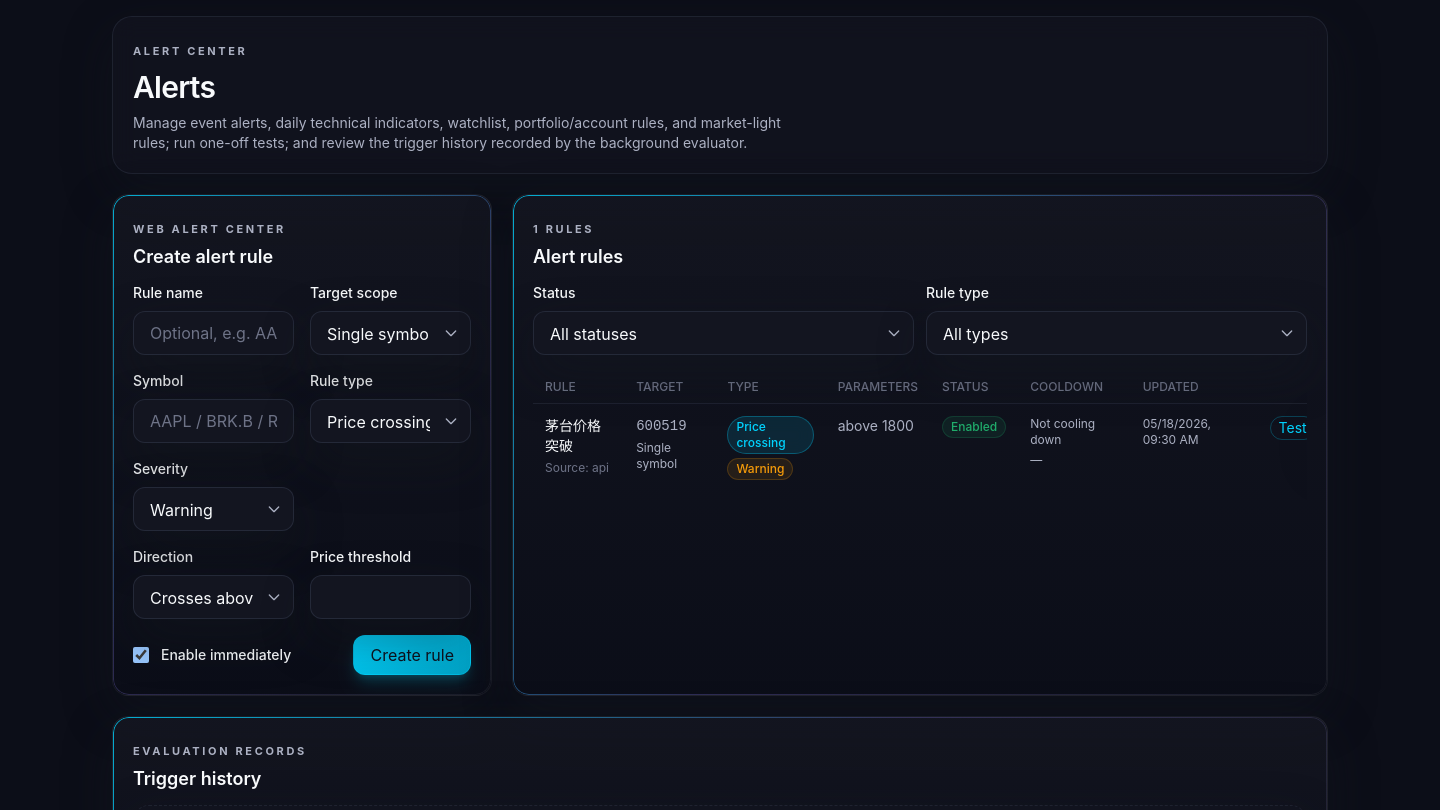
Test: AlertsPage › renders batch dry-run summary and target results
What coordinates should you click on to do the following:
click the button "Test"
I would click on:
 (1293, 428)
Its box is [1270, 416, 1316, 440].
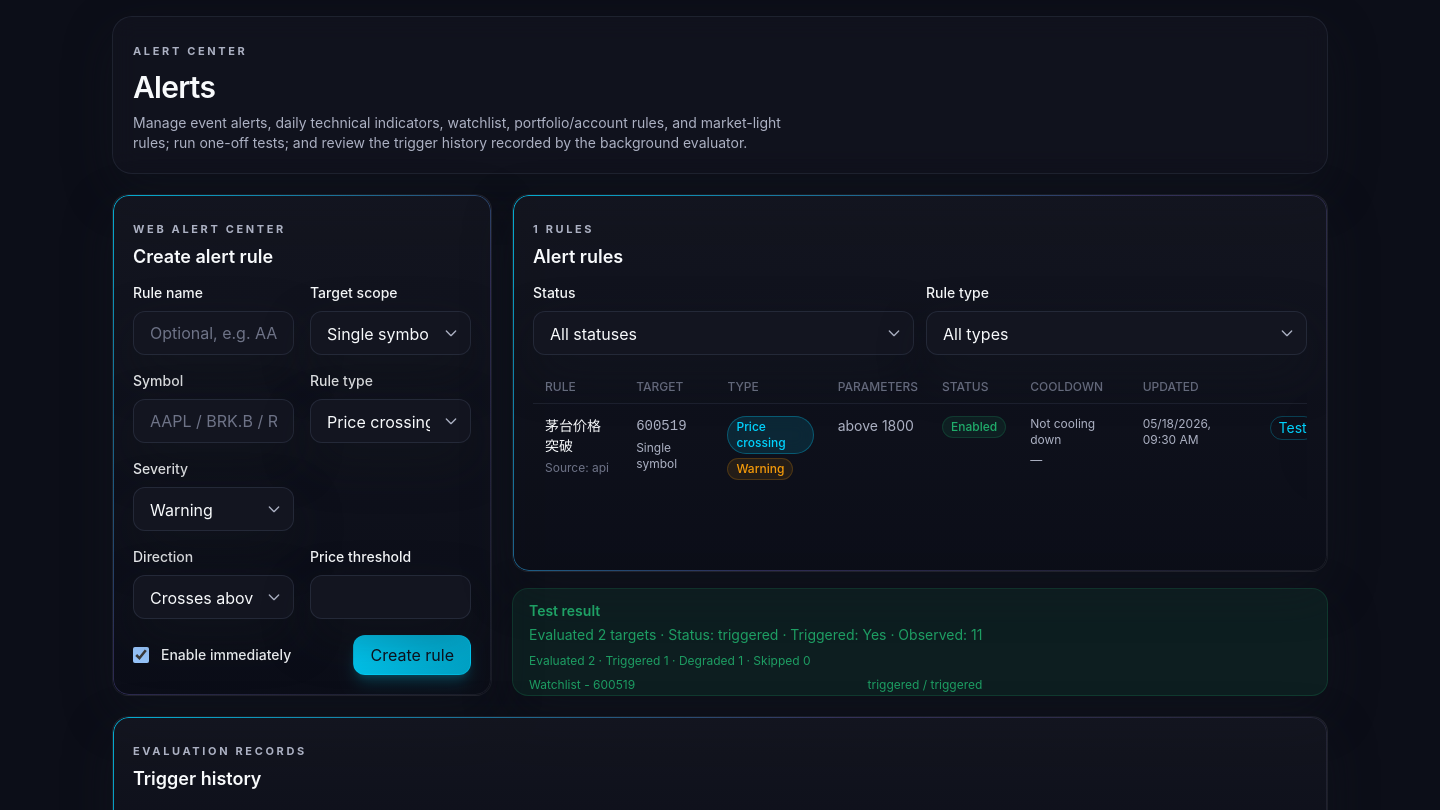
Expected: the text "Evaluated 2 · Triggered 1 · Degraded 1 · Skipped 0" is shown, [529, 653, 810, 668]
Expected: the text "Watchlist - 600519" is shown, [529, 677, 635, 693]
